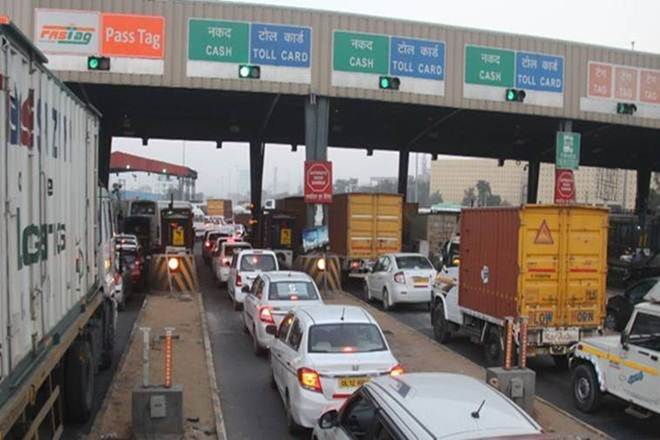toll plaza: (175, 1, 660, 154)
